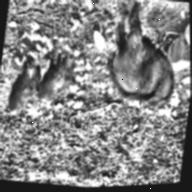boar: (93, 0, 191, 137), (32, 37, 95, 115), (3, 44, 49, 119)
